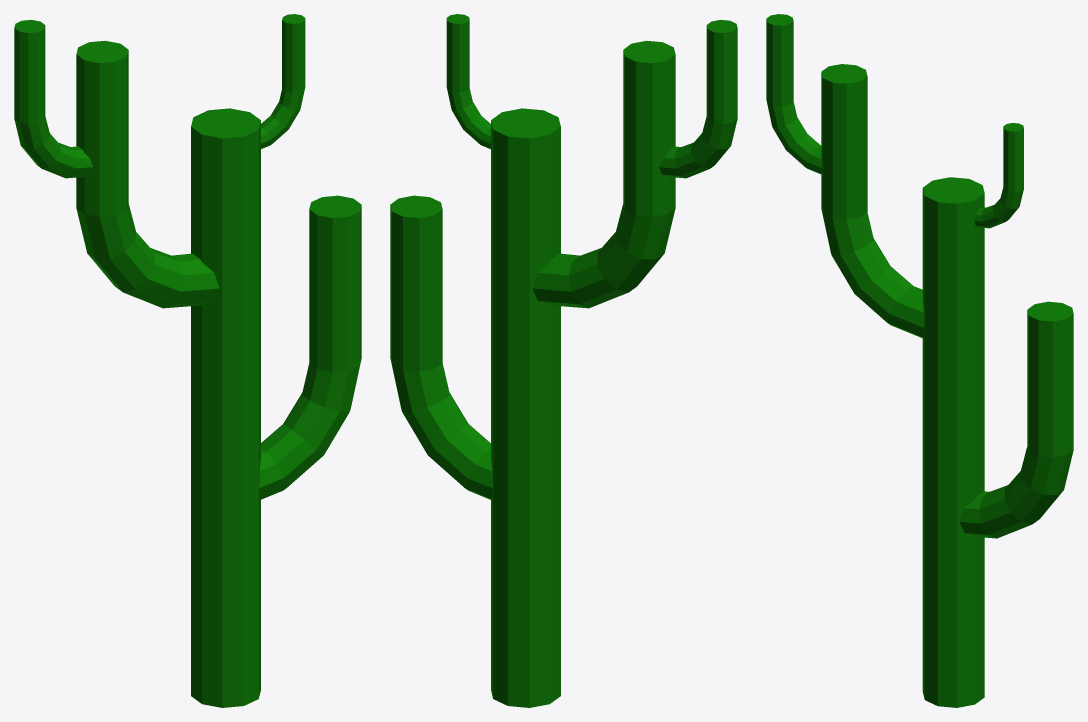
The model's file is Cactus4.fbx.
The picture shows the model from 3 angles, left to right: view 1: azimuth 30°, elevation 25°; view 2: azimuth 150°, elevation 25°; view 3: azimuth 330°, elevation 25°; orthographic projection. The views are drawn at different scales.
Parts seen in each view (by area): view 1: Cylinder, Cylinder.001, Cylinder.002, Cylinder.003, Cylinder.004; view 2: Cylinder, Cylinder.001, Cylinder.002, Cylinder.003, Cylinder.004; view 3: Cylinder, Cylinder.001, Cylinder.002, Cylinder.003, Cylinder.004.
Boxes of the visible parts, x1,y1,x2,y2 form: Cylinder: (191,108,260,707); Cylinder.001: (76,40,219,308); Cylinder.002: (259,195,361,499); Cylinder.003: (14,19,92,178); Cylinder.004: (261,14,305,148); Cylinder: (491,108,560,707); Cylinder.001: (532,40,675,308); Cylinder.002: (390,195,492,499); Cylinder.003: (659,19,737,178); Cylinder.004: (446,14,490,149); Cylinder: (922,177,984,707); Cylinder.001: (821,64,924,338); Cylinder.002: (959,301,1073,538); Cylinder.003: (766,14,821,174); Cylinder.004: (974,123,1023,228).
Size of the model in its own units: 76.39 by 153 by 13.9.
